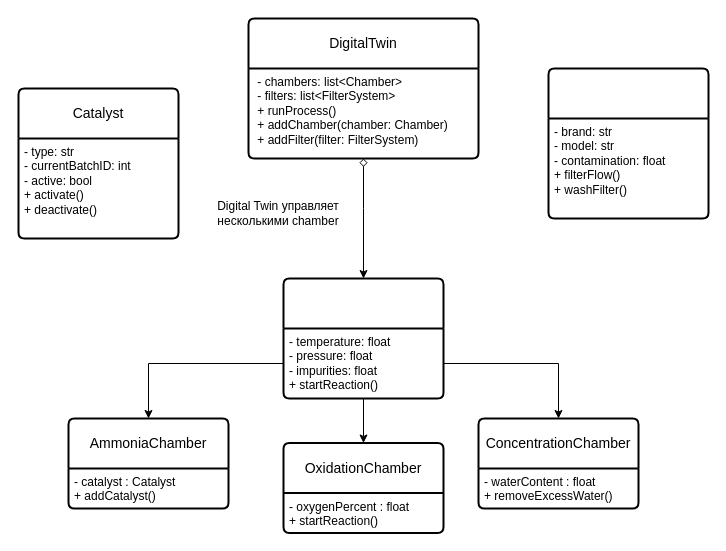
This 726x551 diagram has some shape labels left out. The box of each missing label's shape, as (x1, y1, x2, y2) in pixels:
Chamber: (282, 277, 444, 399)
FilterSystem: (547, 67, 709, 219)
